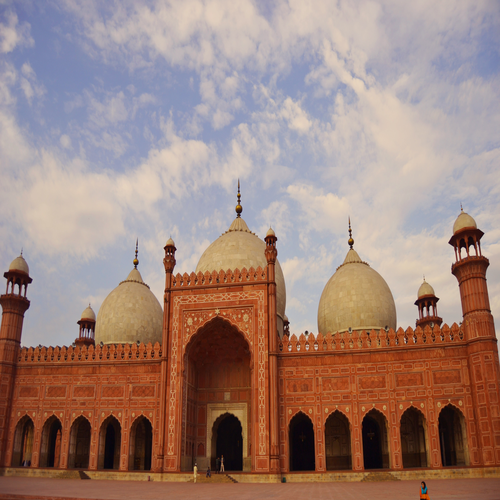Mosque: (6, 189, 496, 470)
